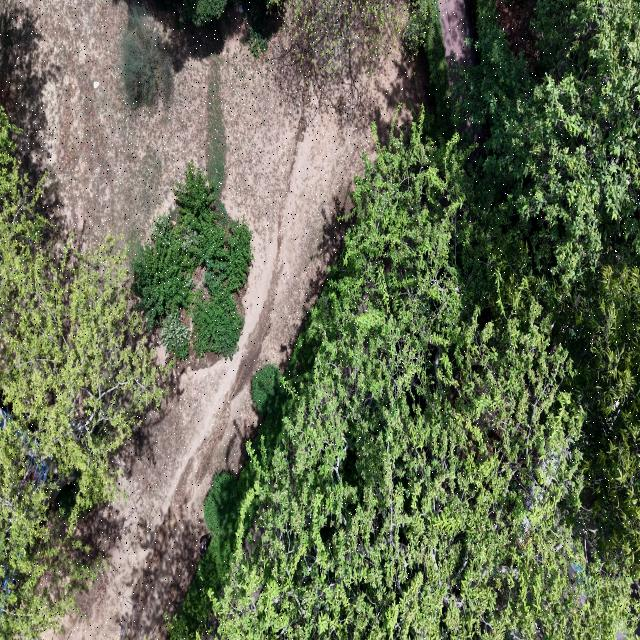DRY_AREA: (0, 0, 424, 639), (0, 0, 207, 243), (438, 0, 478, 86), (438, 0, 477, 82), (496, 0, 539, 62)
VEGETATION_TREE: (172, 1, 639, 639), (212, 127, 633, 639), (465, 1, 639, 578), (0, 107, 160, 639), (0, 112, 160, 637), (459, 1, 639, 286), (124, 0, 412, 107), (567, 259, 639, 578), (134, 164, 252, 358), (0, 420, 103, 639), (274, 0, 424, 127), (122, 0, 284, 110), (170, 466, 252, 637), (170, 471, 243, 634), (286, 0, 411, 76), (403, 0, 453, 137), (122, 2, 173, 108), (204, 471, 240, 570), (251, 364, 290, 451), (236, 0, 283, 57), (206, 61, 226, 193), (242, 0, 284, 58), (251, 364, 281, 412), (184, 0, 226, 25)
